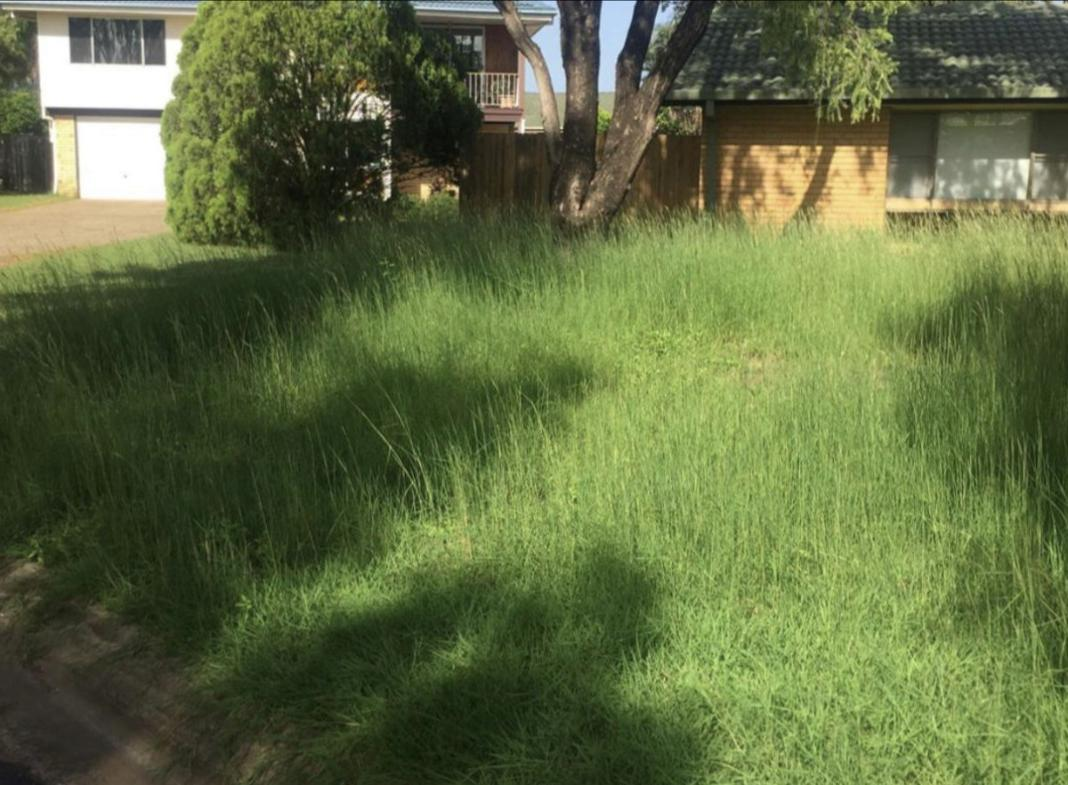overgrown grass: (1, 218, 1068, 784)
